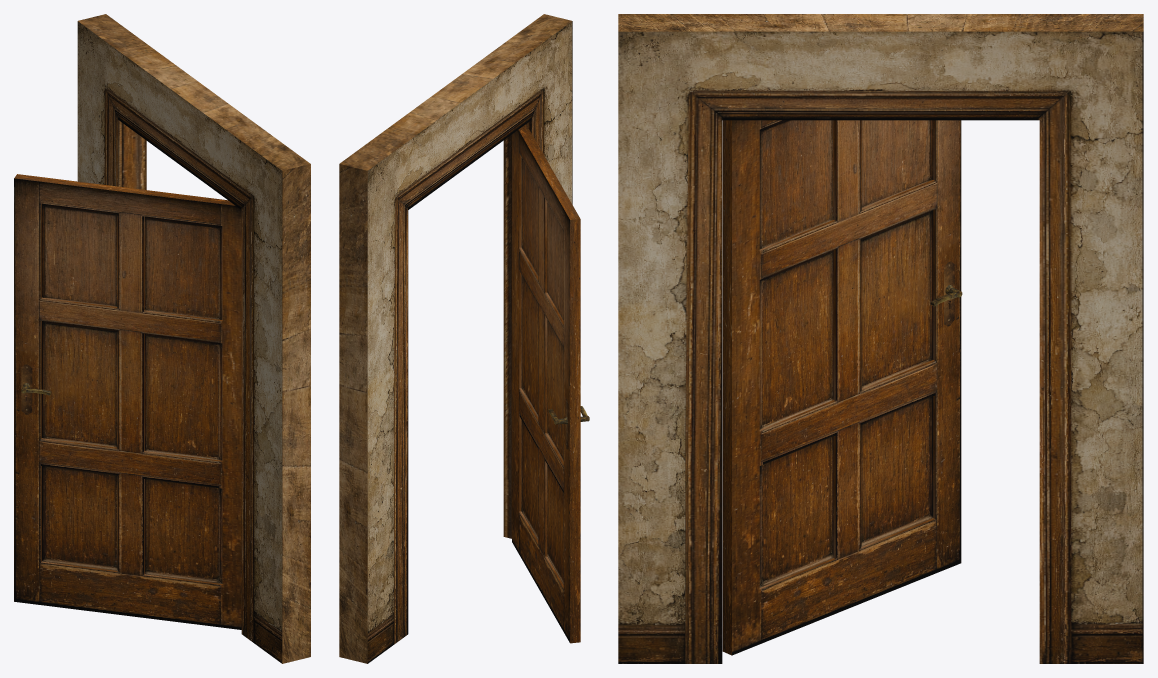
File: Door.fbx
3 renders of one model, left to right at view 1: azimuth 30°, elevation 25°; view 2: azimuth 150°, elevation 25°; view 3: azimuth 270°, elevation 25°, orthographic. The views are drawn at different scales.
Visible parts, largest first — view 1: Door, Frame; view 2: Frame, Door; view 3: Frame, Door.
Boxes of the visible parts, box(x1,y1,x2,y2) form: Door: box(14, 174, 241, 629); Frame: box(77, 14, 310, 663); Frame: box(339, 14, 572, 663); Door: box(512, 124, 580, 643); Frame: box(618, 14, 1143, 663); Door: box(722, 120, 961, 655).
Bounding box in the file's own units: 157 × 442 × 333.
Materials: 2 (2 with a texture image).
